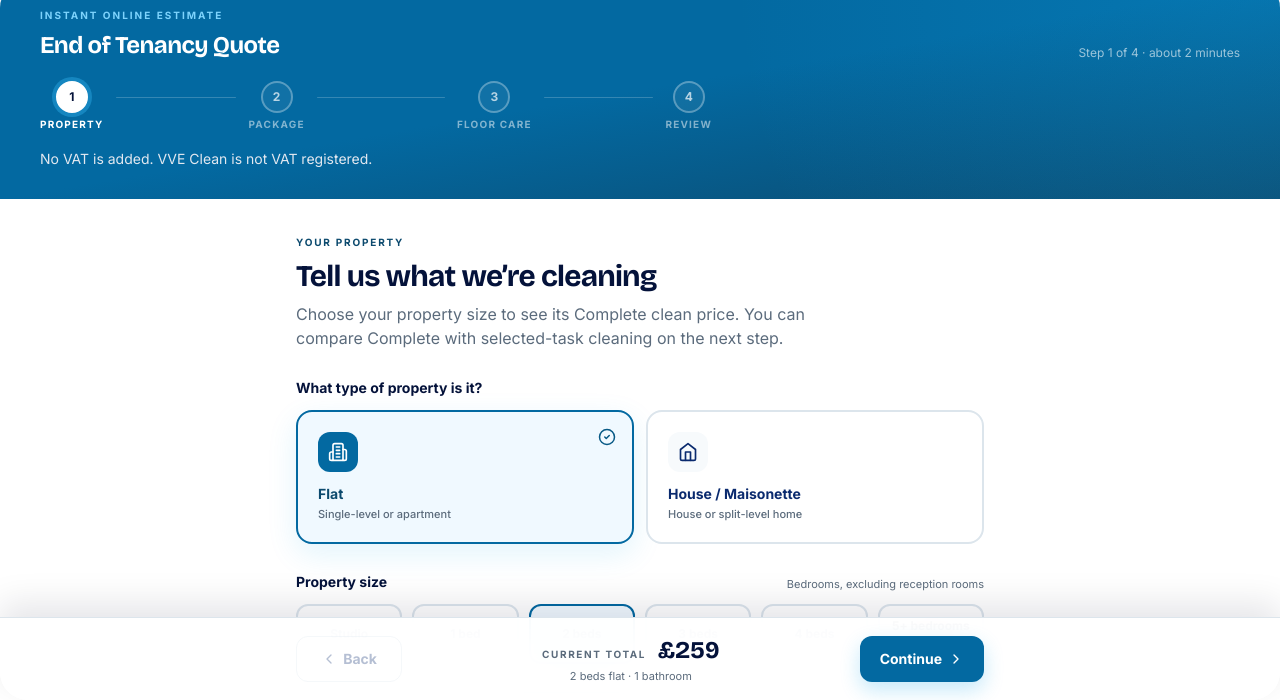
Test: EotQuoteWizard — Step 2: Choose your cleaning package › shows Complete first while keeping the restored Tailored choice selected
The image size is (1280, 700).
Click the button "Continue": (922, 659) top-left (860, 636), bottom-right (984, 682)
(page scrolled)
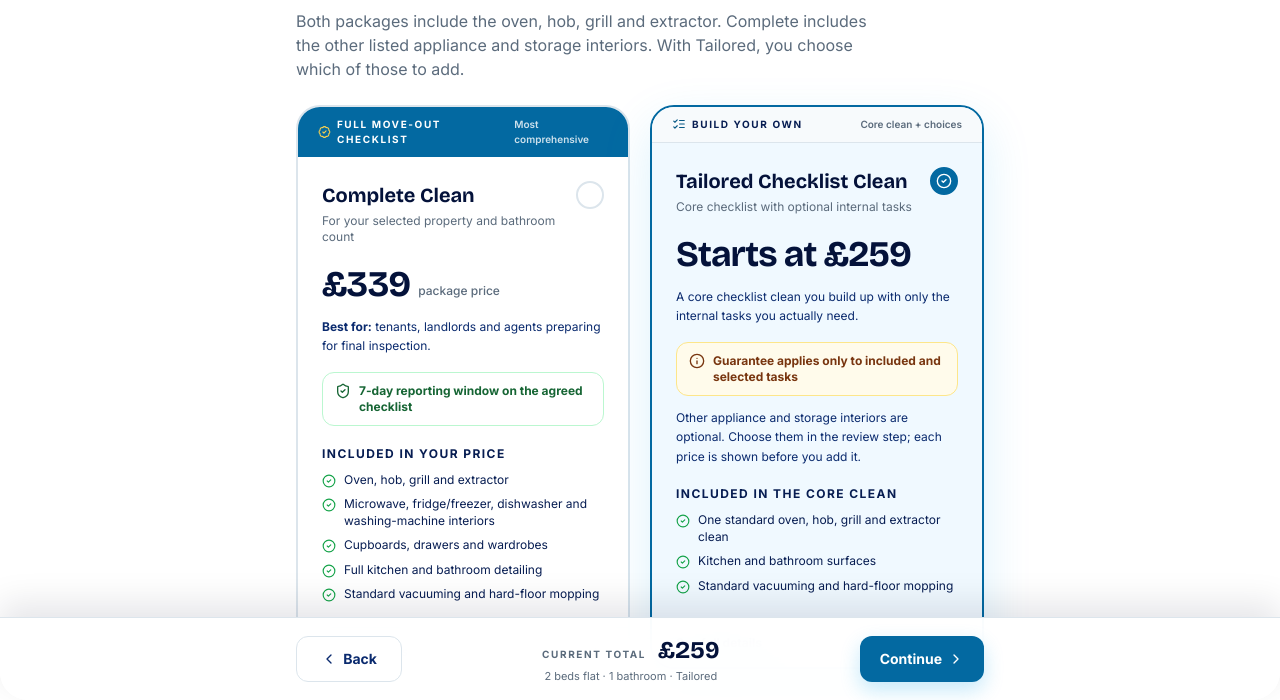
Expected: the button that starts with "Complete Clean" is shown, top-left (298, 157), bottom-right (628, 627)
Expected: the button that starts with "Tailored Checklist Clean" is shown, top-left (652, 143), bottom-right (982, 618)
